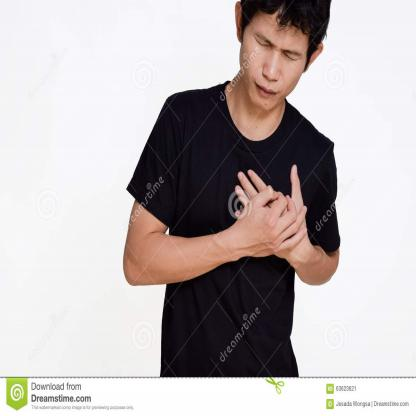pain: (248, 18, 306, 68)
